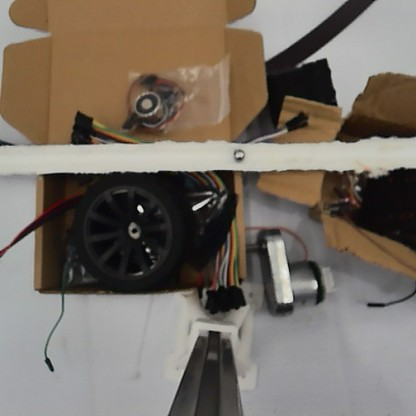ironball: (230, 145, 247, 164)
